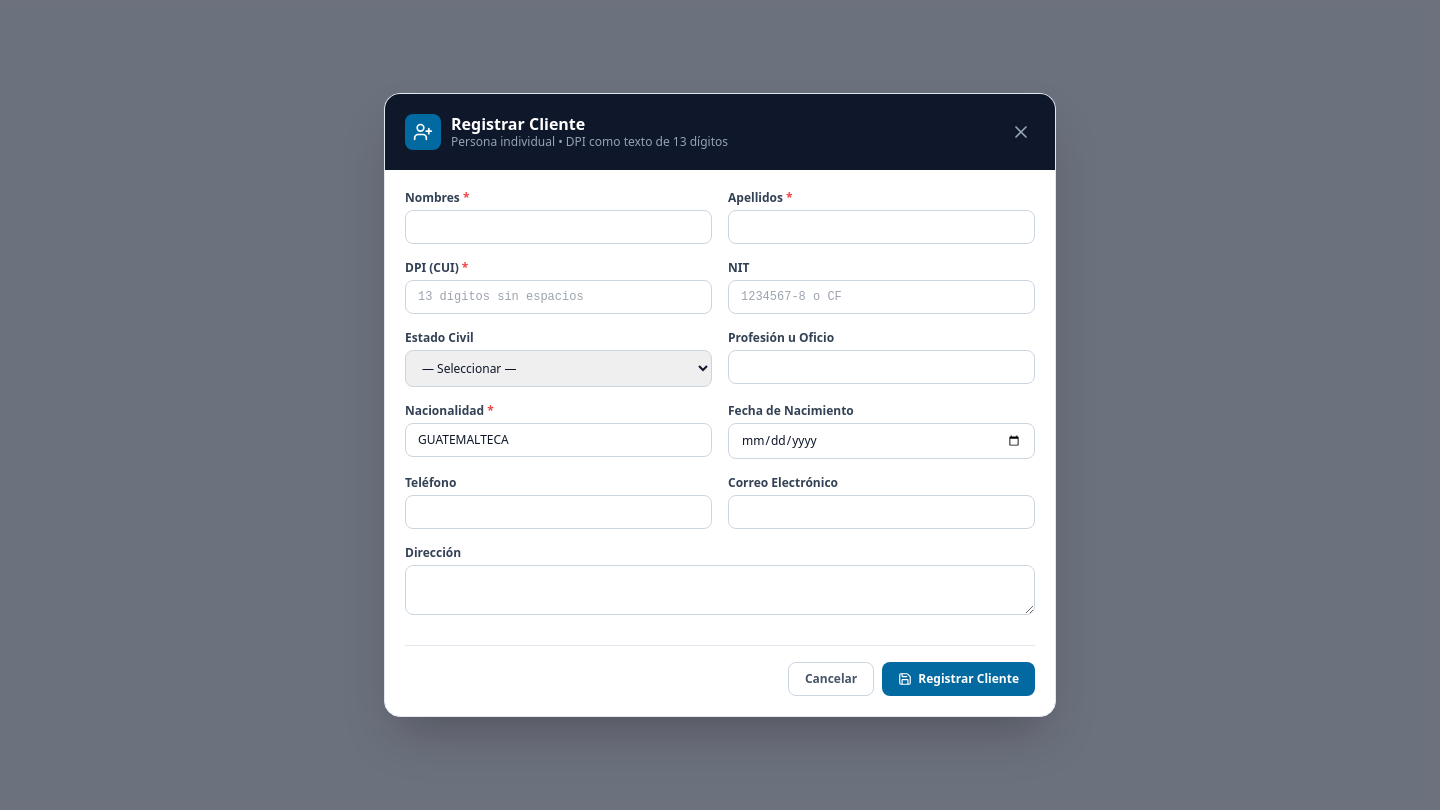
Test: ClientFormModal › muestra errores de validación al enviar el formulario vacío
The width and height of the screenshot is (1440, 810).
Click the button "Registrar Cliente".
click(959, 679)  # box [882,662,1035,696]
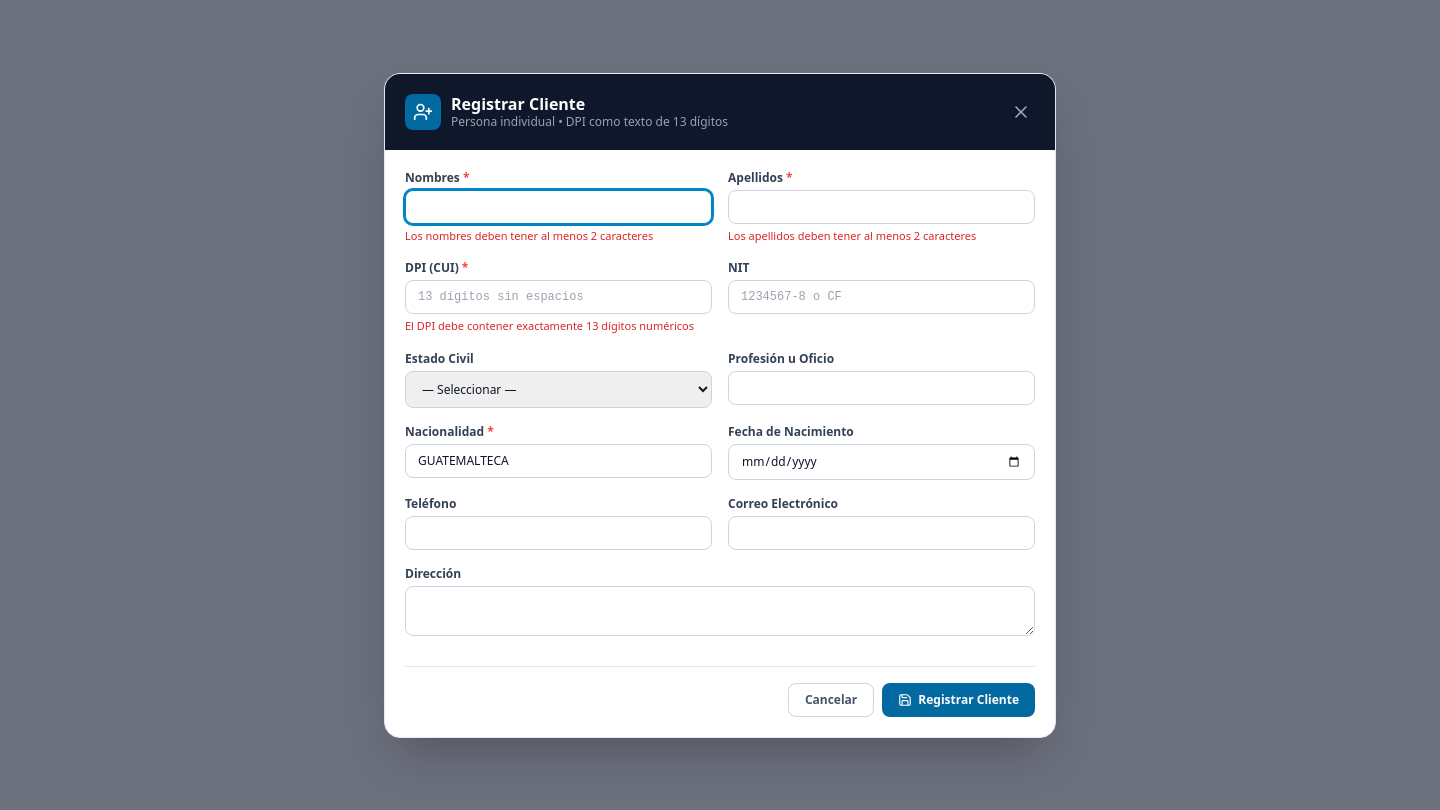
Result: the text "Los nombres deben tener al menos 2 caracteres" is shown at [405,228,653,242]
Result: the text "Los apellidos deben tener al menos 2 caracteres" is shown at [728,228,976,242]
Result: the text "El DPI debe contener exactamente 13 dígitos numéricos" is shown at [405,318,712,334]
